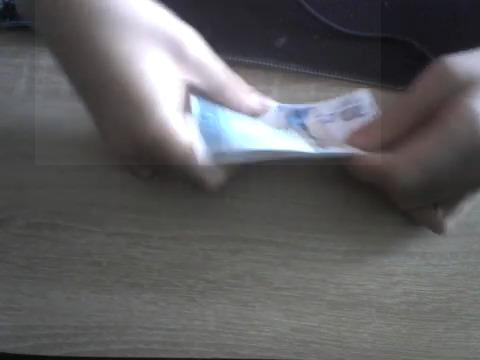20leva: (35, 0, 381, 165)
